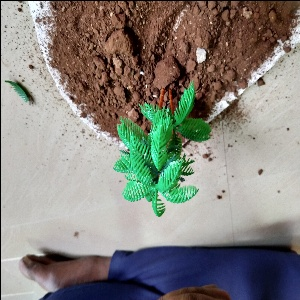plant: (113, 94, 205, 212)
